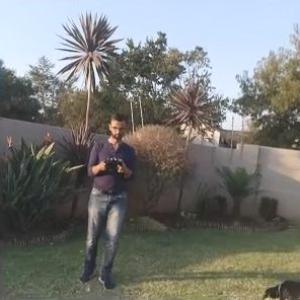follow: (77, 106, 136, 293)
null: (256, 273, 299, 299)
